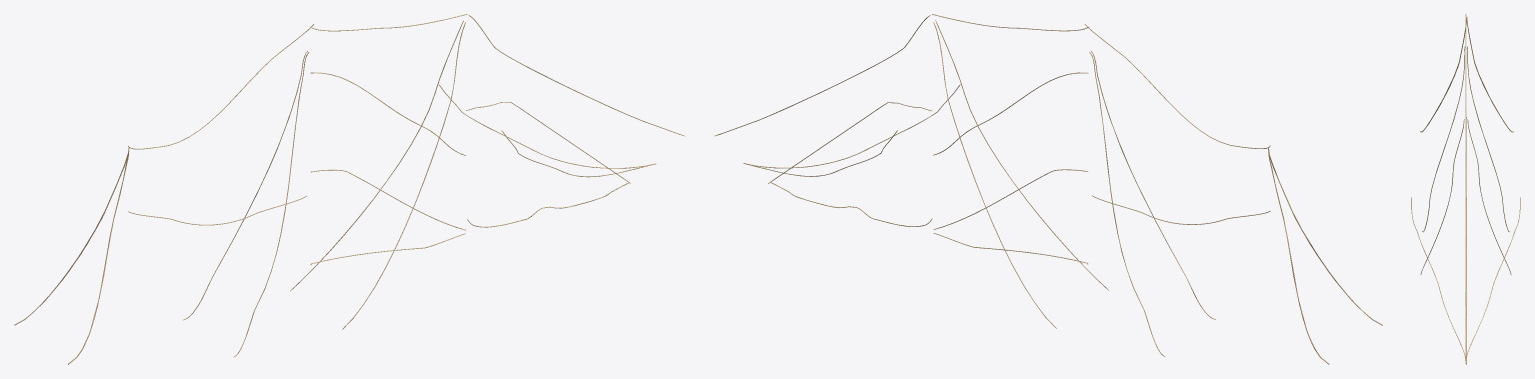
File: Ropes.fbx
3 views of the same model, side by side, from view 1: azimuth 30°, elevation 25°; view 2: azimuth 150°, elevation 25°; view 3: azimuth 270°, elevation 25° (orthographic). The views are drawn at different scales.
Visible parts, largest first — view 1: no part large enough to name; view 2: no part large enough to name; view 3: BezierCurve.002, BezierCurve.003, BezierCurve.004, BezierCurve.007, BezierCurve.008, BezierCurve.014, BezierCurve.015, BezierCurve, BezierCurve.001, BezierCurve.009, BezierCurve.005, BezierCurve.010.
Part boxes in pixels (bbox=[...]): BezierCurve.002: bbox=[1422, 46, 1465, 232]; BezierCurve.003: bbox=[1467, 46, 1510, 232]; BezierCurve.004: bbox=[1466, 116, 1466, 358]; BezierCurve.007: bbox=[1411, 197, 1465, 363]; BezierCurve.008: bbox=[1466, 197, 1520, 363]; BezierCurve.014: bbox=[1420, 119, 1464, 275]; BezierCurve.015: bbox=[1467, 119, 1511, 275]; BezierCurve: bbox=[1466, 17, 1513, 132]; BezierCurve.001: bbox=[1420, 17, 1467, 132]; BezierCurve.009: bbox=[1465, 27, 1466, 114]; BezierCurve.005: bbox=[1466, 198, 1466, 364]; BezierCurve.010: bbox=[1465, 115, 1466, 235].
Size of the model in its own units: 19859 by 8531 by 3372.
